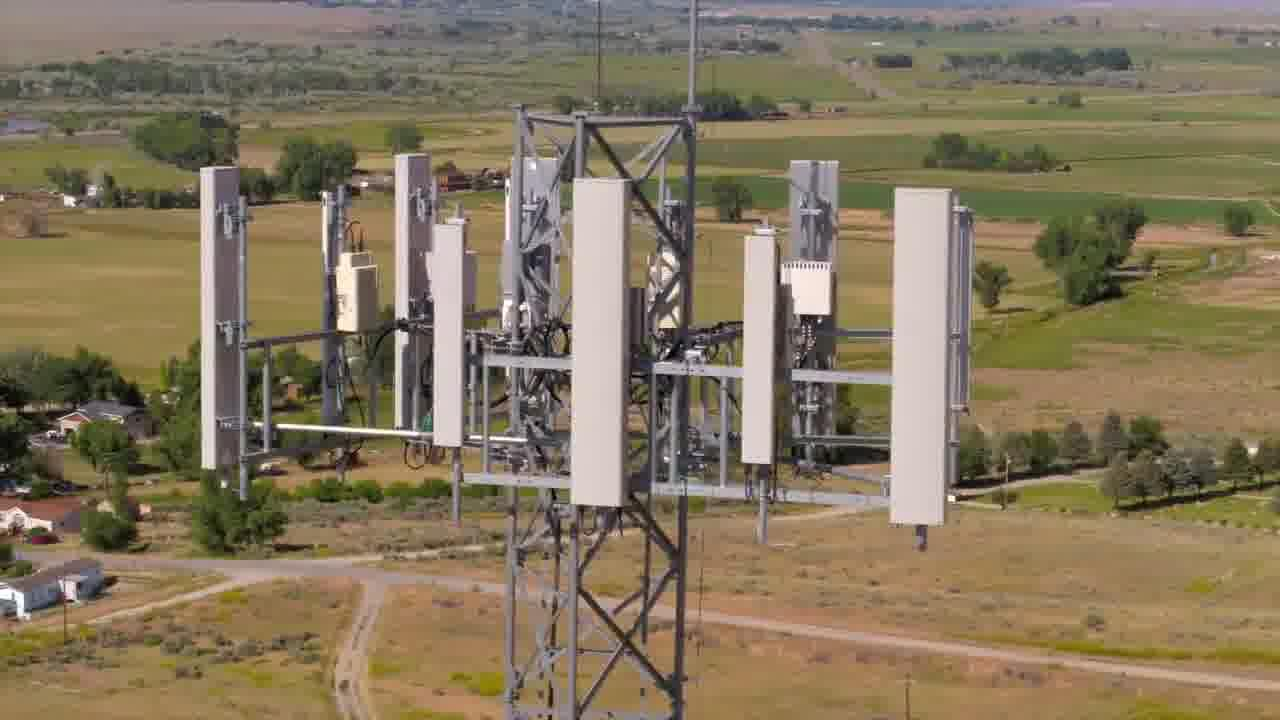antenna: (572, 160, 646, 532), (893, 176, 966, 537), (782, 147, 849, 435), (195, 169, 250, 491), (375, 158, 427, 438), (434, 217, 485, 469), (734, 233, 787, 470), (315, 181, 360, 424)
